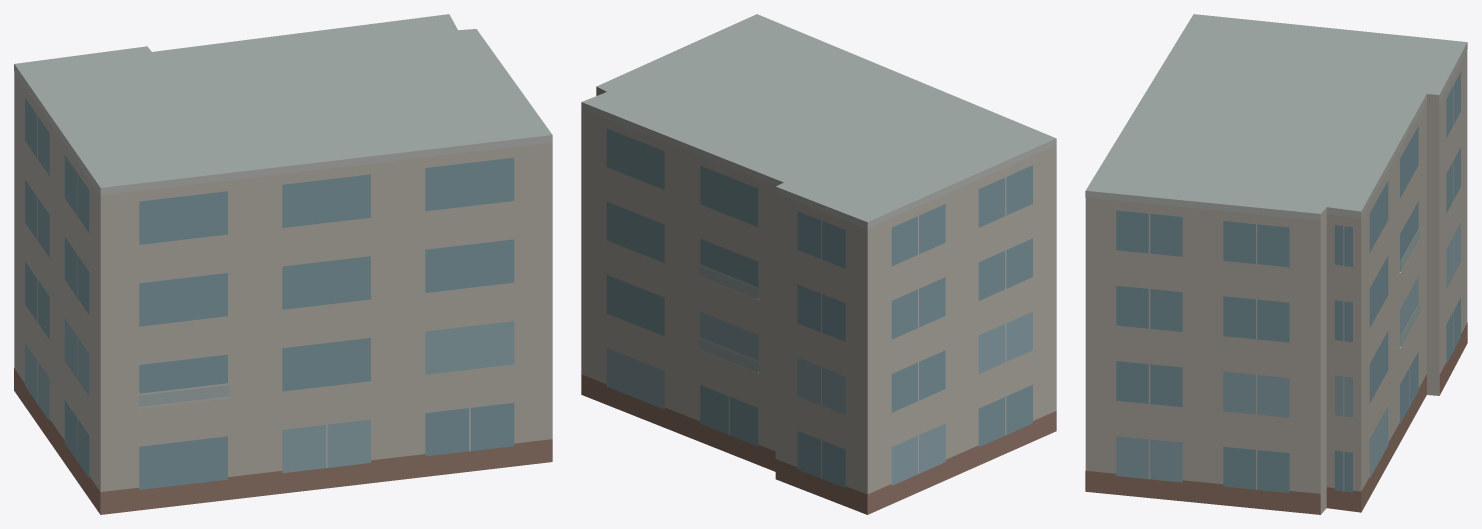
The model's file is survey-upis-32923298.glb.
The picture shows the model from 3 angles, left to right: view 1: azimuth 30°, elevation 25°; view 2: azimuth 150°, elevation 25°; view 3: azimuth 270°, elevation 25°; orthographic projection. The views are drawn at different scales.
Parts seen in each view (by area): view 1: survey-upis-32923298.tmp; view 2: survey-upis-32923298.tmp; view 3: survey-upis-32923298.tmp.
Boxes of the visible parts, x1,y1,x2,y2 form: survey-upis-32923298.tmp: (14, 14, 552, 514); survey-upis-32923298.tmp: (581, 14, 1056, 514); survey-upis-32923298.tmp: (1085, 14, 1467, 514).
Bounding box in the file's own units: 15.25 × 10.7 × 12.32.
